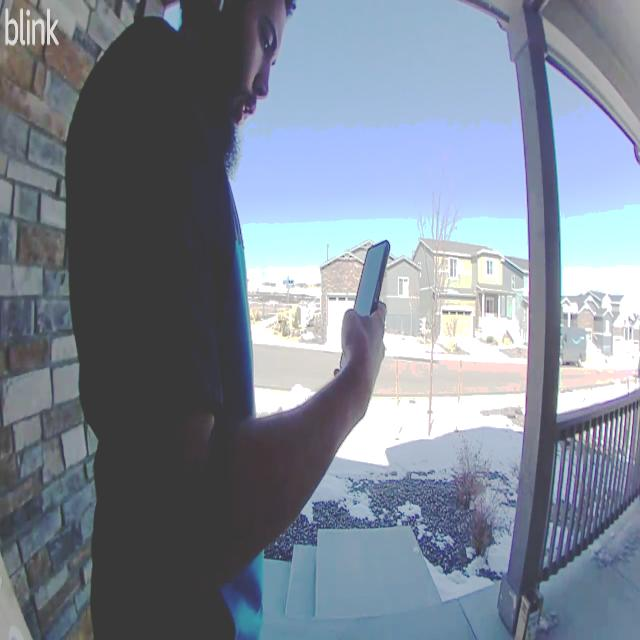Box: (514, 588, 545, 640)
